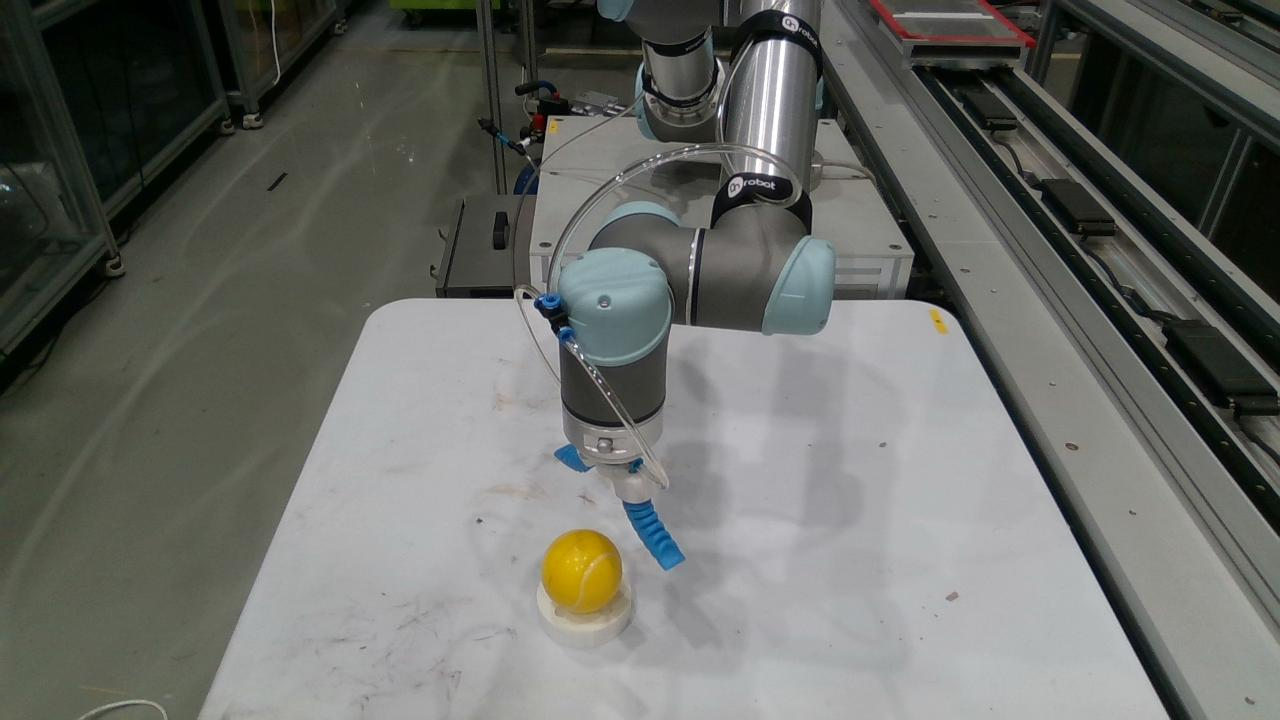UR5: (558, 0, 836, 503)
gripper_left: (554, 444, 590, 472)
gripper_right: (624, 501, 684, 569)
target: (541, 530, 622, 614), (536, 580, 634, 647)
